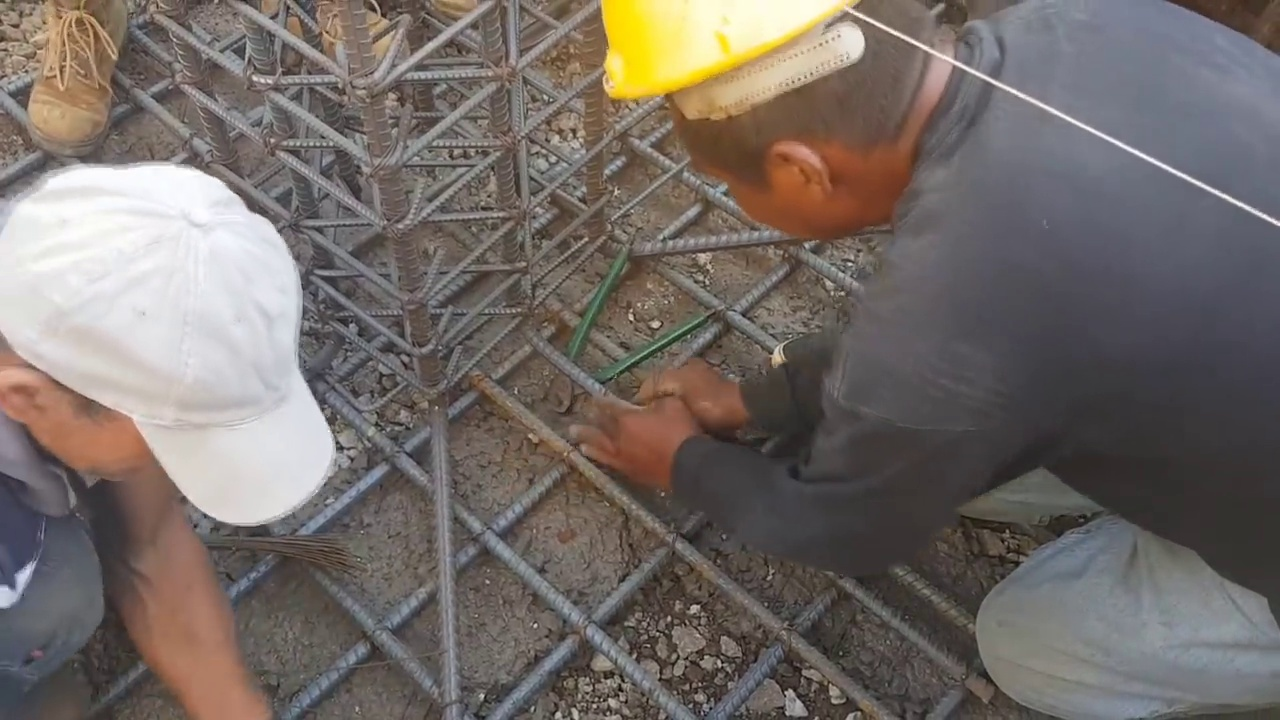helmet: (595, 2, 860, 99)
helmet-off: (0, 162, 310, 563)
helmet-on: (625, 3, 978, 231)
person: (567, 8, 1280, 713), (0, 161, 340, 716)
